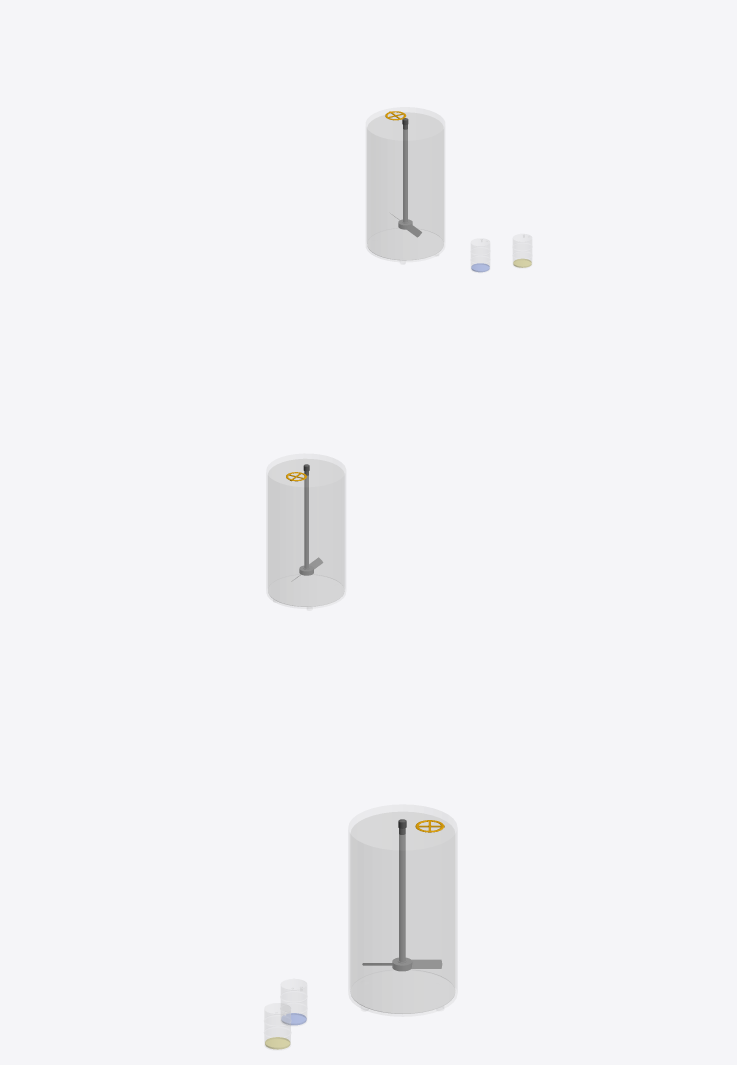
Rendered from verticalTank1Blade.glb.
The picture shows the model from 3 angles, top to bottom: view 1: azimuth 30°, elevation 25°; view 2: azimuth 150°, elevation 25°; view 3: azimuth 270°, elevation 25°; orthographic projection. The views are drawn at different scales.
Parts seen in each view (by area): view 1: MilkCilinder, TankCilinder, Blade, BarrelAlcaline, BarrelAcid; view 2: MilkCilinder, TankCilinder, Blade; view 3: MilkCilinder, TankCilinder, Blade, BarrelAcid, BarrelAlcaline.
Boxes of the visible parts, x1,y1,x2,y2 form: MilkCilinder: (367, 112, 443, 260); TankCilinder: (366, 107, 444, 263); Blade: (393, 125, 421, 237); BarrelAlcaline: (471, 239, 489, 272); BarrelAcid: (513, 234, 531, 267); MilkCilinder: (268, 458, 344, 606); TankCilinder: (267, 454, 345, 610); Blade: (294, 471, 322, 579); MilkCilinder: (350, 811, 455, 1013); TankCilinder: (349, 805, 456, 1016); Blade: (362, 828, 442, 971); BarrelAcid: (264, 1003, 290, 1049); BarrelAlcaline: (280, 979, 306, 1025).
Size of the model in its own units: 10.55 by 2.93 by 10.55.
